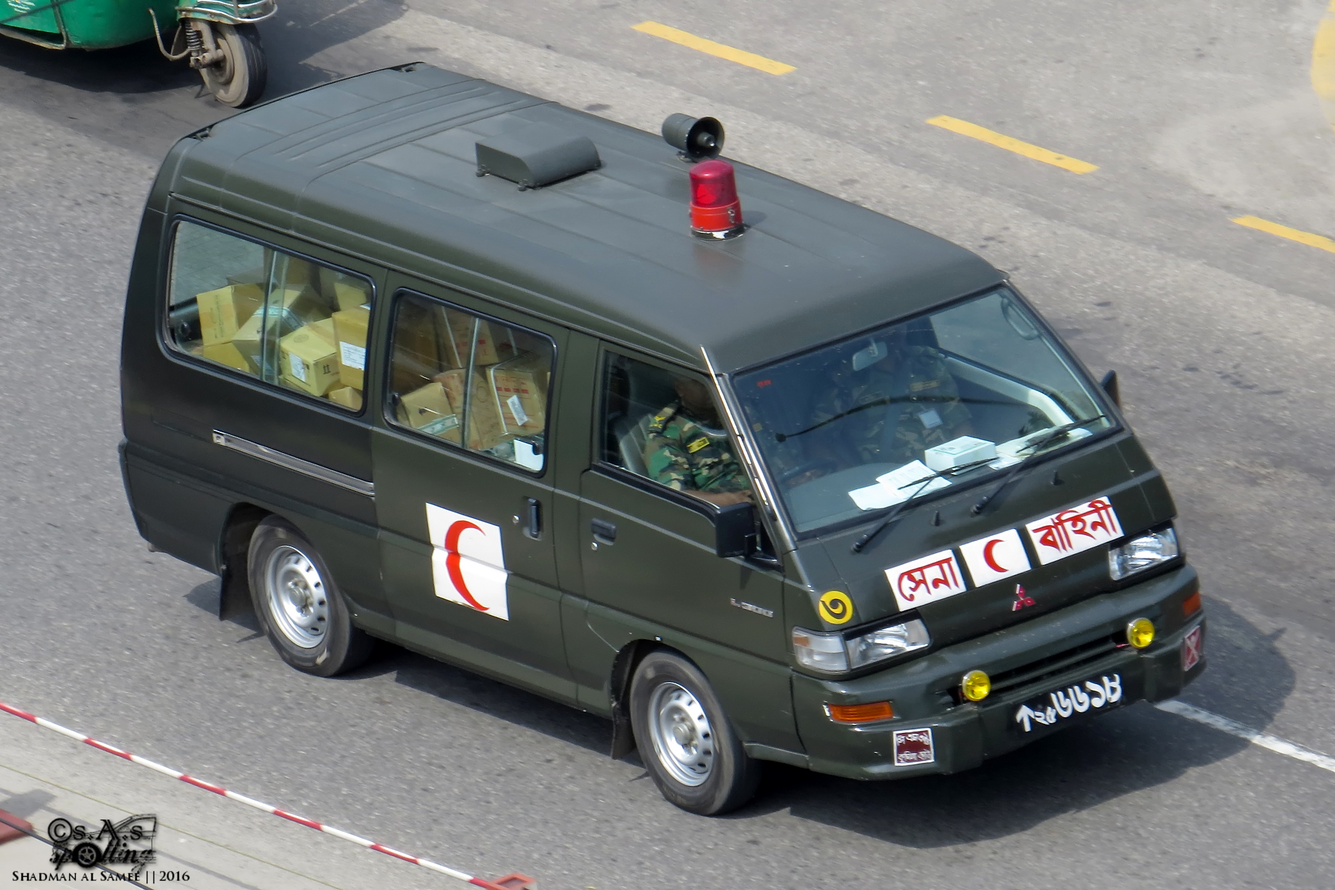Ambulance: (113, 42, 1227, 813)
cng: (2, 2, 280, 97)
